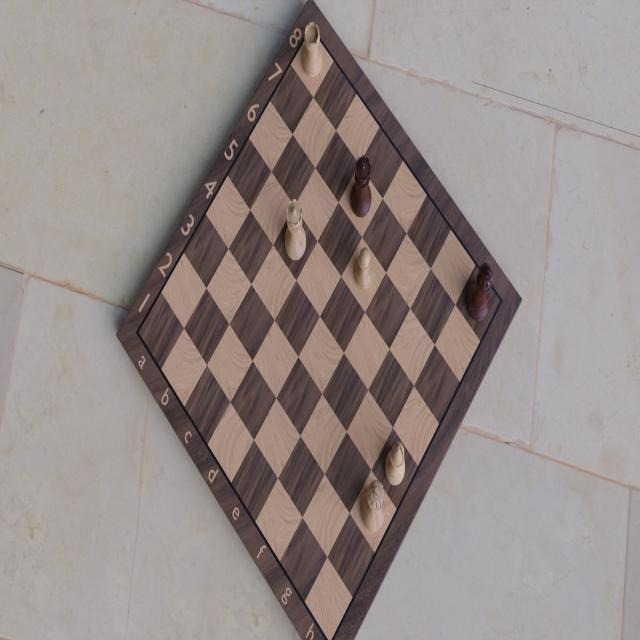black-king: (464, 260, 496, 327)
black-queen: (348, 152, 373, 220)
white-bishop: (382, 439, 409, 489)
white-king: (358, 476, 389, 537)
white-pawn: (352, 243, 375, 292)
white-queen: (283, 197, 309, 266)
white-rook: (300, 19, 324, 82)
